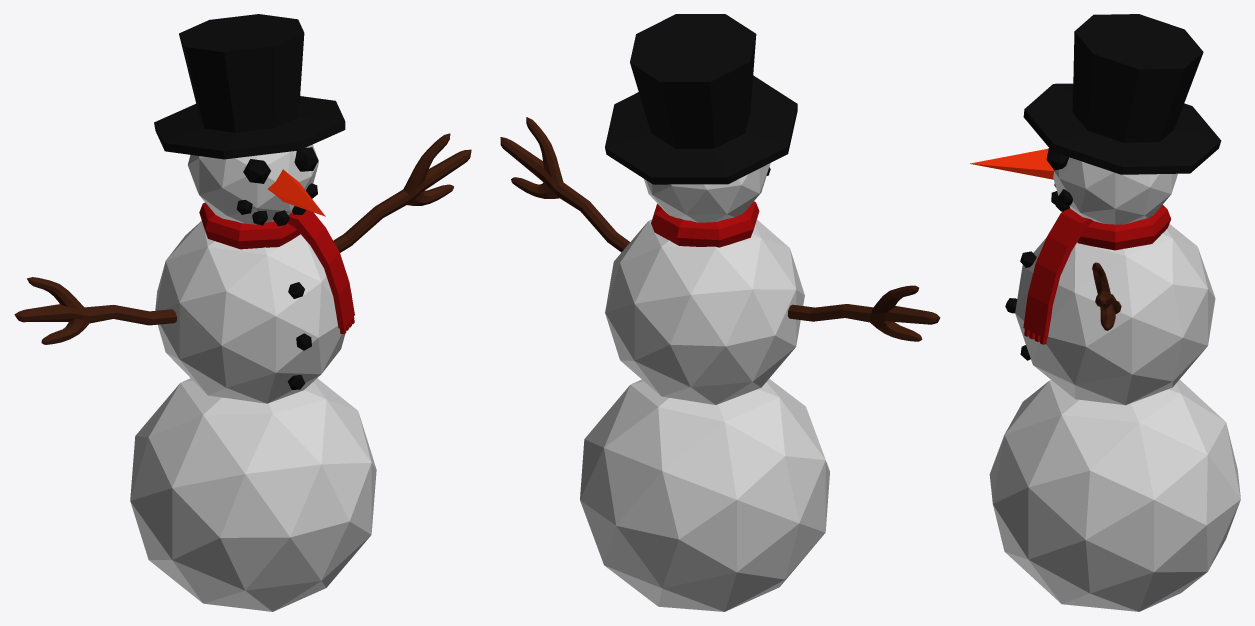
File: Snowman 01.fbx
3 renders of one model, left to right at view 1: azimuth 30°, elevation 25°; view 2: azimuth 150°, elevation 25°; view 3: azimuth 270°, elevation 25°, orthographic.
Parts seen in each view (by area): view 1: Base, Chest, Hat, Head, Arm R, Arm L, Scarf 2, Scarf, Nose; view 2: Base, Chest, Hat, Head, Arm L, Arm R, Scarf; view 3: Base, Chest, Hat, Head, Scarf 2, Scarf, Nose, Arm L.
Boxes of the visible parts, bbox=[...] form: Base: bbox=[130, 378, 376, 611]; Chest: bbox=[155, 221, 351, 403]; Hat: bbox=[154, 14, 345, 159]; Head: bbox=[187, 144, 318, 224]; Arm R: bbox=[14, 277, 176, 344]; Arm L: bbox=[333, 133, 471, 252]; Scarf 2: bbox=[287, 210, 354, 328]; Scarf: bbox=[199, 202, 300, 249]; Nose: bbox=[267, 169, 325, 216]; Base: bbox=[580, 378, 829, 611]; Chest: bbox=[605, 219, 804, 404]; Hat: bbox=[605, 14, 797, 184]; Head: bbox=[644, 163, 770, 222]; Arm L: bbox=[500, 117, 629, 252]; Arm R: bbox=[787, 285, 940, 341]; Scarf: bbox=[651, 201, 759, 247]; Base: bbox=[989, 379, 1240, 611]; Chest: bbox=[1015, 224, 1215, 405]; Hat: bbox=[1023, 14, 1221, 174]; Head: bbox=[1053, 157, 1177, 224]; Scarf 2: bbox=[1023, 208, 1092, 338]; Scarf: bbox=[1062, 205, 1170, 250]; Nose: bbox=[970, 148, 1054, 179]; Arm L: bbox=[1092, 262, 1121, 330].
Size of the model in its own units: 166 by 202 by 86.98.
